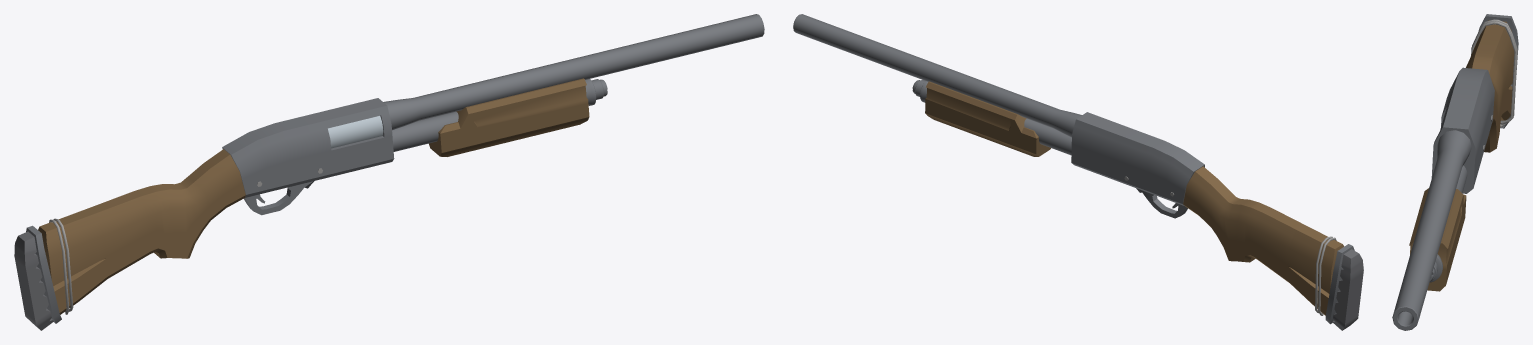
The model's file is rifle.fbx.
3 renders of one model, left to right at view 1: azimuth 30°, elevation 25°; view 2: azimuth 150°, elevation 25°; view 3: azimuth 270°, elevation 25°, orthographic. The views are drawn at different scales.
Visible parts, largest first — view 1: Cube_2, Cube, Tube, Cube_5, Cube_4, Tube_1, Cylinder, Cube_3, Cube_1; view 2: Cube_2, Cube, Tube, Cube_5, Cube_4, Tube_1, Cube_3, Cube_1; view 3: Tube, Cube, Cube_2, Cube_5, Symmetry_2, Cube_3, Tube_1, Symmetry_1.
Part boxes in pixels (x1,y1,x2,y2): Cube_2: [38, 149, 245, 314]; Cube: [222, 98, 394, 197]; Tube: [383, 14, 764, 130]; Cube_5: [429, 78, 589, 156]; Cube_4: [14, 231, 53, 330]; Tube_1: [392, 79, 596, 151]; Cylinder: [328, 116, 383, 148]; Cube_3: [26, 225, 61, 323]; Cube_1: [244, 181, 314, 215]; Cube_2: [1183, 166, 1343, 315]; Cube: [1071, 112, 1204, 205]; Tube: [793, 14, 1081, 137]; Cube_5: [925, 81, 1050, 156]; Cube_4: [1332, 249, 1363, 330]; Tube_1: [920, 81, 1071, 155]; Cube_3: [1325, 244, 1354, 324]; Cube_1: [1136, 188, 1187, 218]; Tube: [1392, 130, 1471, 330]; Cube: [1431, 67, 1494, 193]; Cube_2: [1466, 20, 1514, 152]; Cube_5: [1409, 188, 1466, 291]; Symmetry_2: [1471, 21, 1517, 124]; Cube_3: [1478, 14, 1518, 128]; Tube_1: [1429, 165, 1467, 282]; Symmetry_1: [1472, 19, 1517, 127].
Size of the model in its own units: 4.48 by 1.07 by 0.6132.
